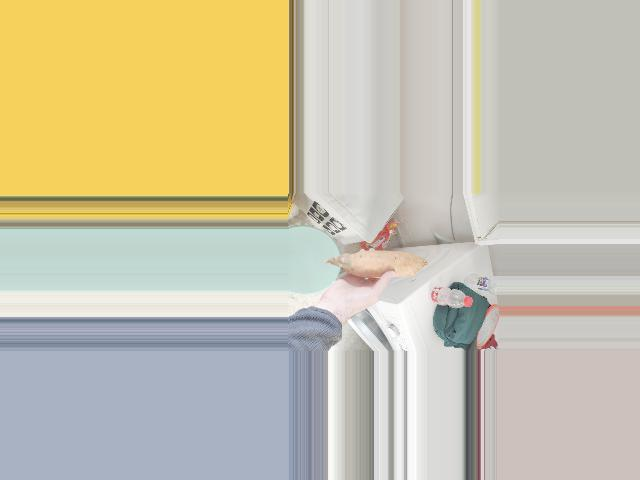sweet_potato: (337, 252, 424, 275)
